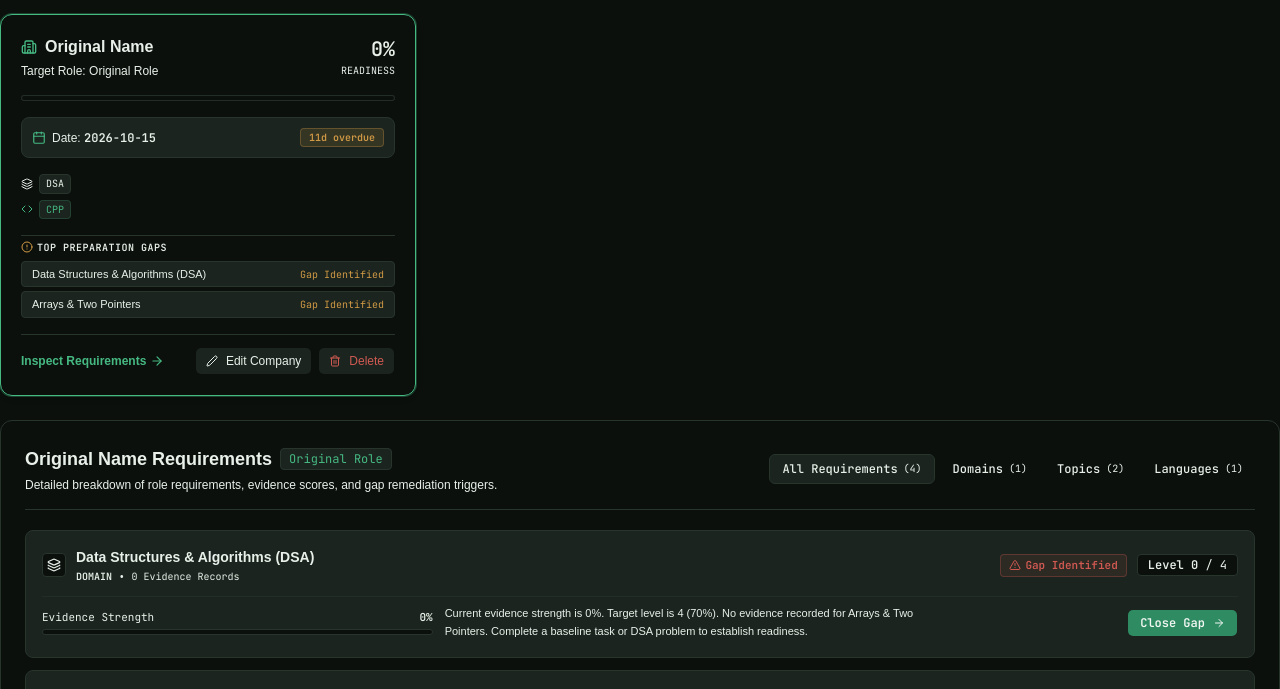
Test case: C4 — event date (C4-06) › H2. an existing eventDate is untouched by an edit that does not change it
The image size is (1280, 689).
(page scrolled)
Click the button "Edit Company" at (254, 361), box top-left (195, 347), bottom-right (312, 375)
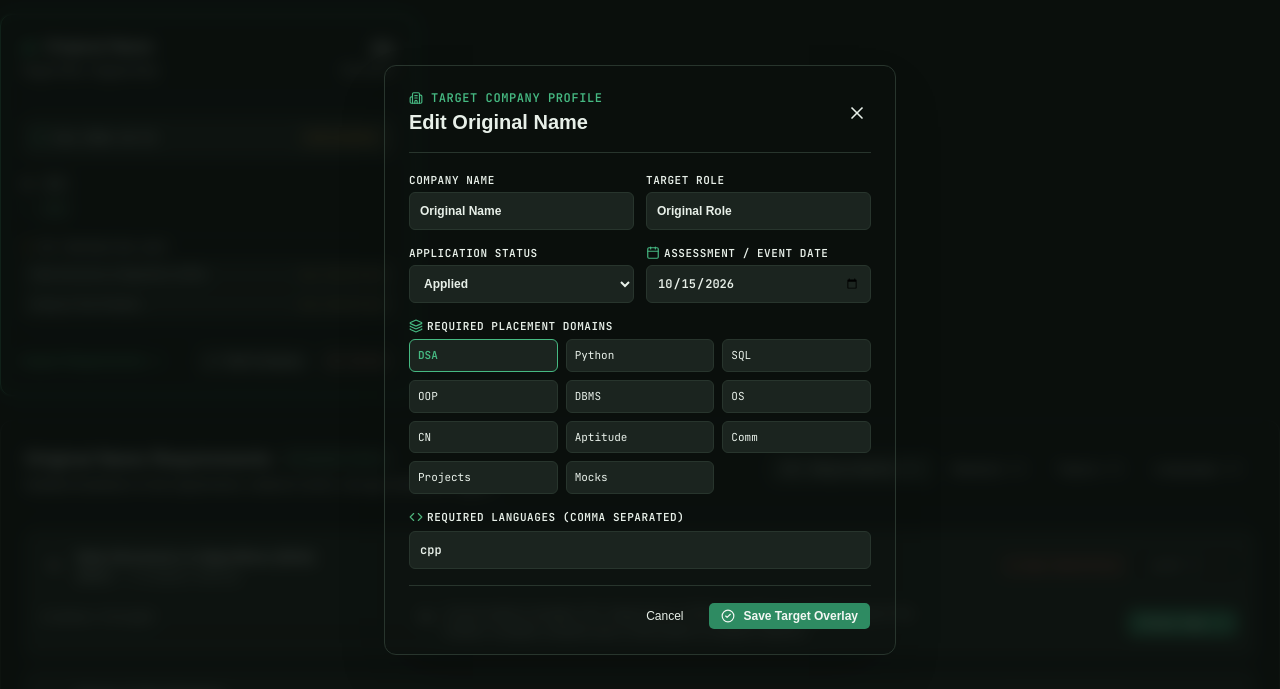
Replace the text in the field with placeholder "e.g. Google, Amazon, Microsoft" with "Date Safe Corp" at (522, 211), box top-left (409, 192), bottom-right (634, 230)
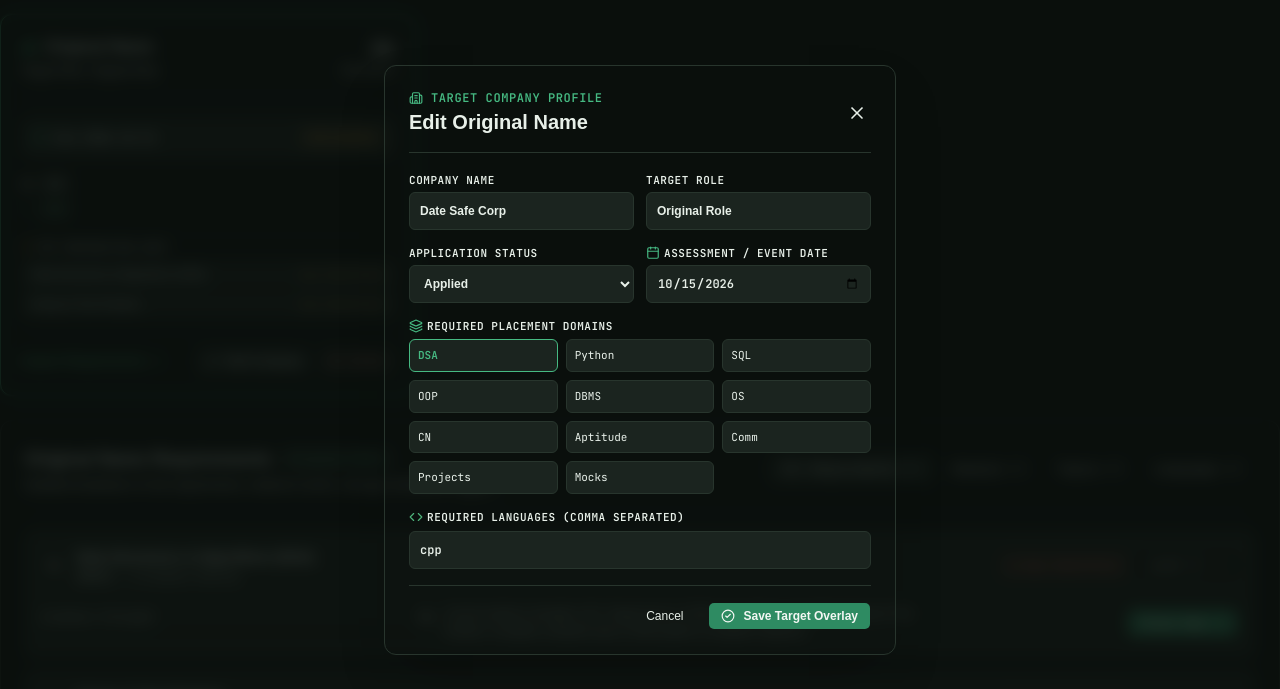
Submit the form, box top-left (409, 173), bottom-right (871, 630)
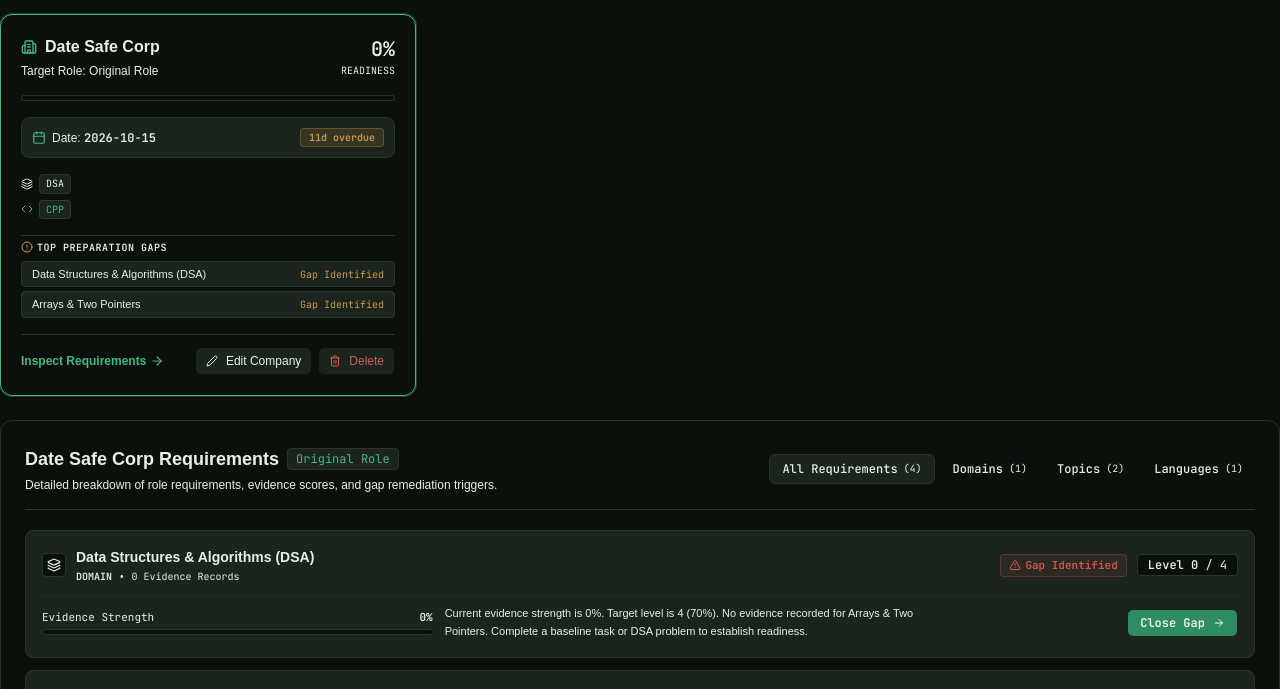
Now the form is gone
